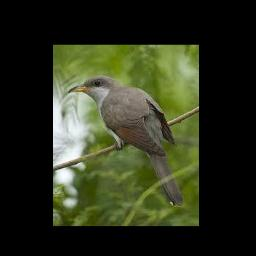Cuckoo: (69, 75, 183, 207)
